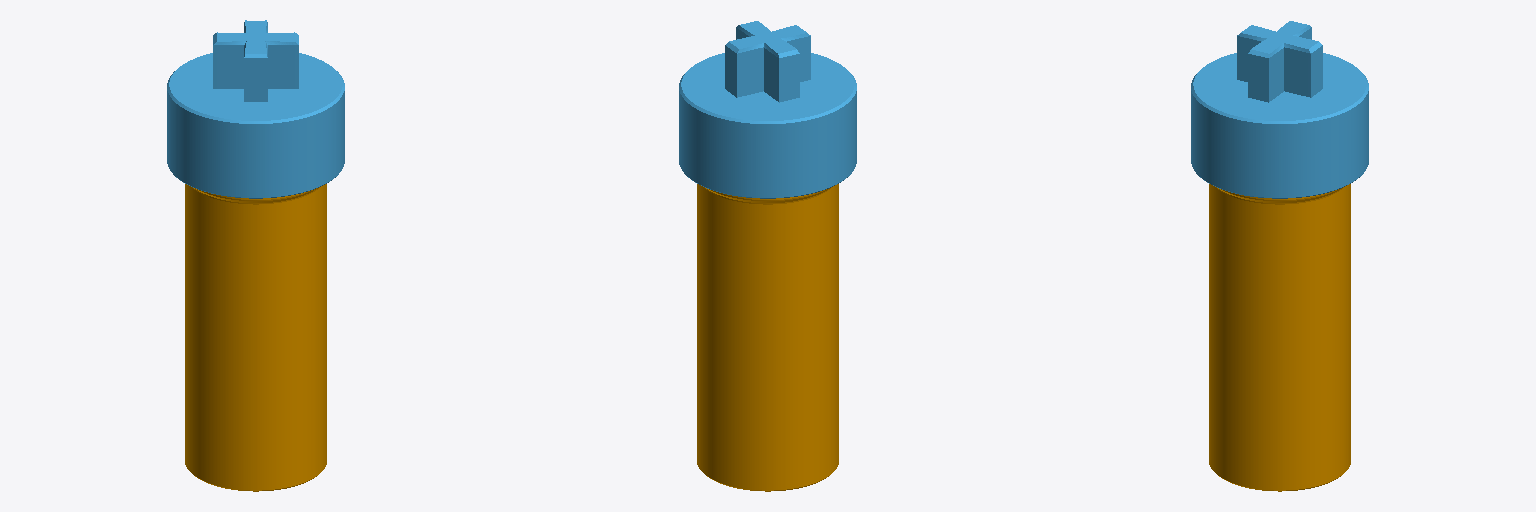
robot.urdf — rh56_shaker_locked:
<?xml version="1.0"?>
<!-- body + lid welded in LOCKED pose (shaking-only training). profile=real -->
<robot name="rh56_shaker_locked">
  <link name="body">
    <!-- origin = bottom centre, rim at z=170.0 mm -->
    <inertial>
      <origin xyz="-0.000000 0.000000 0.082640" rpy="0 0 0"/>
      <mass value="0.13282"/>
      <inertia ixx="4.8755e-04" ixy="0" ixz="0" iyy="4.8755e-04" iyz="0" izz="1.0418e-04"/>
    </inertial>
    <visual><geometry><mesh filename="../../meshes/real/rh56_shaker_body.stl" scale="0.001 0.001 0.001"/></geometry></visual>
    <collision><geometry><mesh filename="../../meshes/real/rh56_shaker_body.stl" scale="0.001 0.001 0.001"/></geometry></collision>
  </link>
  <link name="lid">
    <!-- origin = mating plane (plate underside) centre -->
    <inertial>
      <origin xyz="0.000000 0.000000 -0.001457" rpy="0 0 0"/>
      <mass value="0.07537"/>
      <inertia ixx="4.3439e-05" ixy="0" ixz="0" iyy="4.3439e-05" iyz="0" izz="5.8793e-05"/>
    </inertial>
    <visual><geometry><mesh filename="../../meshes/real/rh56_shaker_lid.stl" scale="0.001 0.001 0.001"/></geometry></visual>
    <collision><geometry><mesh filename="../../meshes/real/rh56_shaker_lid.stl" scale="0.001 0.001 0.001"/></geometry></collision>
  </link>
  <joint name="lid_lock" type="fixed">
    <parent link="body"/><child link="lid"/>
    <origin xyz="0 0 0.170600" rpy="0 0 -0.523599"/>
  </joint>
</robot>

--- What the picture shows (computed from the rendered views, not written in the file) ---
Views: 3 orthographic renders of the robot side by side, from view 1: azimuth 30°, elevation 25°; view 2: azimuth 150°, elevation 25°; view 3: azimuth 270°, elevation 25°.
Model rh56_shaker_locked with 2 links and 1 joints (1 fixed), rooted at body, posed all joints at 0.
Links seen in each view (by area): view 1: body, lid; view 2: body, lid; view 3: body, lid.
Boxes of the visible links, left/top/right/bottom form: body: left=185, top=184, right=326, bottom=491; lid: left=167, top=20, right=344, bottom=198; body: left=697, top=184, right=838, bottom=491; lid: left=679, top=21, right=856, bottom=198; body: left=1209, top=184, right=1350, bottom=491; lid: left=1191, top=21, right=1368, bottom=198.
Bounding box of the posed robot: 0.075 × 0.075 × 0.1976 m (x, y, z).
2 mesh visuals loaded from 2 distinct referenced files (2 binary STL).
